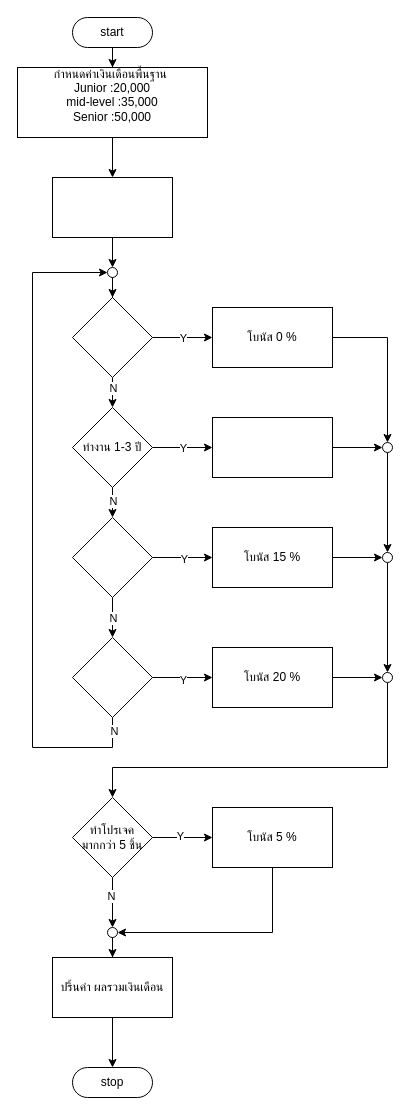
The diagram is 413 pixels wide and 1115 high, and some of its shapes have lost their labels. Each missing label, with the centre of its shape:
ถ้าทำงานน้อยกว่า 1 ปี: the point at 112,337
ทำงาน 4-5 ปี: the point at 112,557
ทำงาน 5 ปี ขึ้นไป: the point at 112,677
รับค่า ตำแหน่ง ปีที่ทำงาน จำนวนโปรเจค ที่ทำ: the point at 112,207
โบนัส 10 %: the point at 272,447
